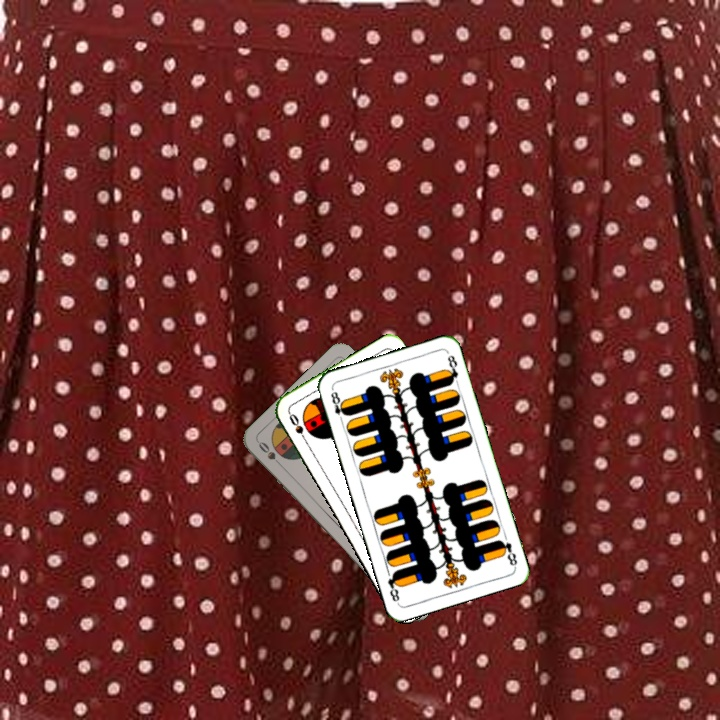E8: (327, 385, 350, 425), (494, 536, 520, 569)
SO: (254, 437, 286, 471), (284, 409, 310, 446)
